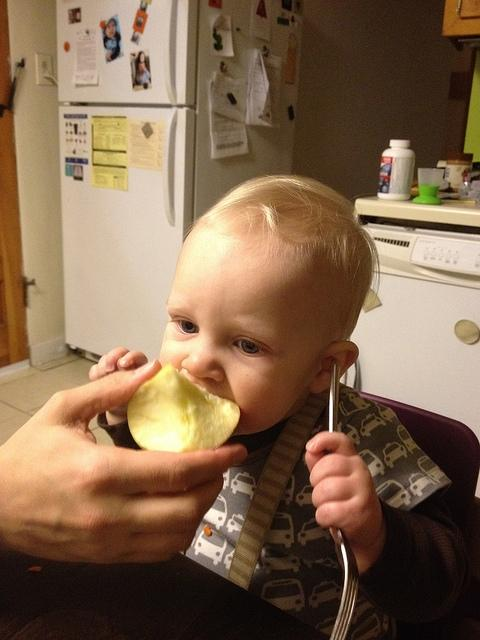apple: (128, 363, 241, 454)
